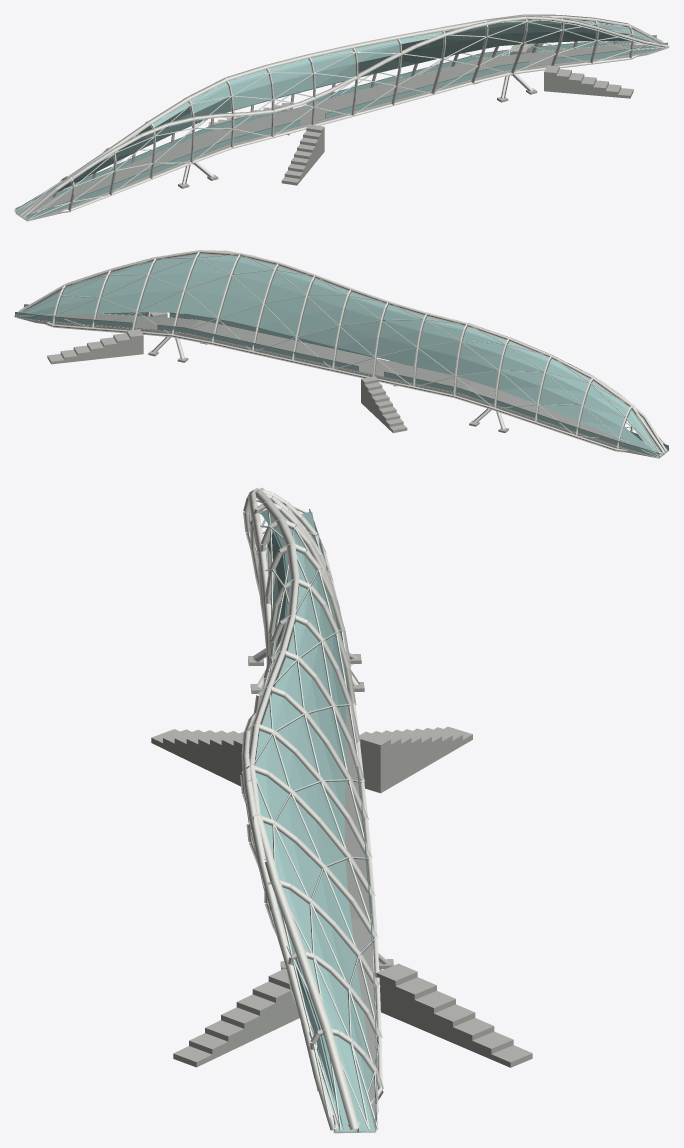
File: bridge-of-peace-tbilisi-far.glb
3 views of the same model, one above another, from view 1: azimuth 30°, elevation 25°; view 2: azimuth 150°, elevation 25°; view 3: azimuth 270°, elevation 25° (orthographic). The views are drawn at different scales.
Parts seen in each view (by area): view 1: bridge-of-peace-tbilisi-0-glass, bridge-of-peace-tbilisi-0-tube, bridge-of-peace-tbilisi-0-walk, bridge-of-peace-tbilisi-0-glow, bridge-of-peace-tbilisi-0-steel, bridge-of-peace-tbilisi-0-stair, bridge-of-peace-tbilisi-0-deck, bridge-of-peace-tbilisi-0-rail; view 2: bridge-of-peace-tbilisi-0-glass, bridge-of-peace-tbilisi-0-walk, bridge-of-peace-tbilisi-0-tube, bridge-of-peace-tbilisi-0-glow, bridge-of-peace-tbilisi-0-steel, bridge-of-peace-tbilisi-0-stair, bridge-of-peace-tbilisi-0-deck, bridge-of-peace-tbilisi-0-rail; view 3: bridge-of-peace-tbilisi-0-glass, bridge-of-peace-tbilisi-0-stair, bridge-of-peace-tbilisi-0-steel, bridge-of-peace-tbilisi-0-tube, bridge-of-peace-tbilisi-0-glow, bridge-of-peace-tbilisi-0-walk.
Part boxes in pixels (left/top/right/bottom): bridge-of-peace-tbilisi-0-glass: left=14, top=20, right=667, bottom=220; bridge-of-peace-tbilisi-0-tube: left=20, top=14, right=669, bottom=218; bridge-of-peace-tbilisi-0-walk: left=16, top=42, right=666, bottom=221; bridge-of-peace-tbilisi-0-glow: left=14, top=19, right=668, bottom=220; bridge-of-peace-tbilisi-0-steel: left=53, top=18, right=633, bottom=211; bridge-of-peace-tbilisi-0-stair: left=178, top=43, right=633, bottom=188; bridge-of-peace-tbilisi-0-deck: left=27, top=48, right=667, bottom=221; bridge-of-peace-tbilisi-0-rail: left=15, top=35, right=667, bottom=215; bridge-of-peace-tbilisi-0-glass: left=15, top=254, right=668, bottom=458; bridge-of-peace-tbilisi-0-walk: left=15, top=313, right=668, bottom=458; bridge-of-peace-tbilisi-0-tube: left=18, top=250, right=666, bottom=454; bridge-of-peace-tbilisi-0-glow: left=14, top=254, right=669, bottom=457; bridge-of-peace-tbilisi-0-steel: left=52, top=251, right=634, bottom=449; bridge-of-peace-tbilisi-0-stair: left=47, top=312, right=508, bottom=433; bridge-of-peace-tbilisi-0-deck: left=15, top=317, right=659, bottom=458; bridge-of-peace-tbilisi-0-rail: left=15, top=304, right=668, bottom=453; bridge-of-peace-tbilisi-0-glass: left=255, top=509, right=376, bottom=1132; bridge-of-peace-tbilisi-0-stair: left=151, top=654, right=532, bottom=1067; bridge-of-peace-tbilisi-0-steel: left=240, top=489, right=389, bottom=1091; bridge-of-peace-tbilisi-0-tube: left=241, top=487, right=383, bottom=1132; bridge-of-peace-tbilisi-0-glow: left=244, top=497, right=379, bottom=1130; bridge-of-peace-tbilisi-0-walk: left=267, top=521, right=377, bottom=1133.
Bounding box in the file's own units: 150 × 20.83 × 39.2.
